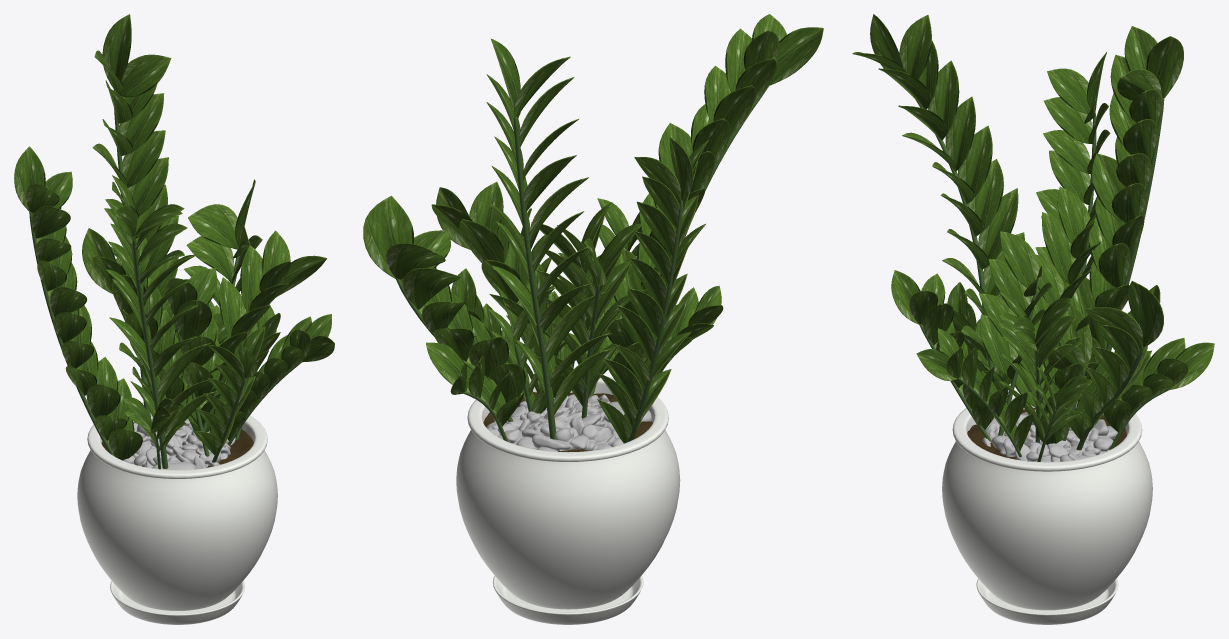
File: zamioculcas.glb
3 renders of one model, left to right at view 1: azimuth 30°, elevation 25°; view 2: azimuth 150°, elevation 25°; view 3: azimuth 270°, elevation 25°, orthographic. The views are drawn at different scales.
Parts seen in each view (by area): view 1: Pot, BeachPebbles; view 2: Pot, BeachPebbles; view 3: Pot, BeachPebbles.
Boxes of the visible parts, box(x1,y1,x2,y2) form: Pot: box(14, 14, 334, 624); BeachPebbles: box(123, 415, 235, 469); Pot: box(363, 14, 823, 624); BeachPebbles: box(486, 394, 651, 451); Pot: box(852, 14, 1214, 624); BeachPebbles: box(982, 409, 1117, 462).
Bounding box in the file's own units: 0.4247 × 0.788 × 0.4549.
5 materials, 1 textured.
